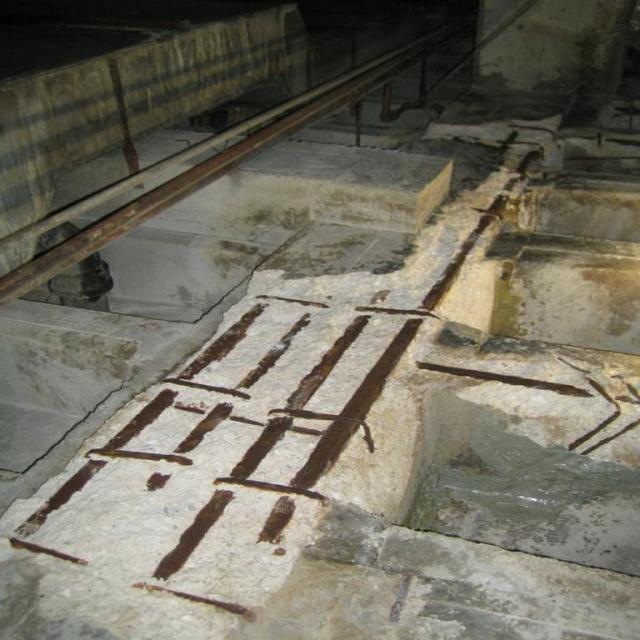spalling: (0, 169, 532, 639), (407, 329, 639, 467), (427, 113, 639, 171), (505, 261, 639, 352)
